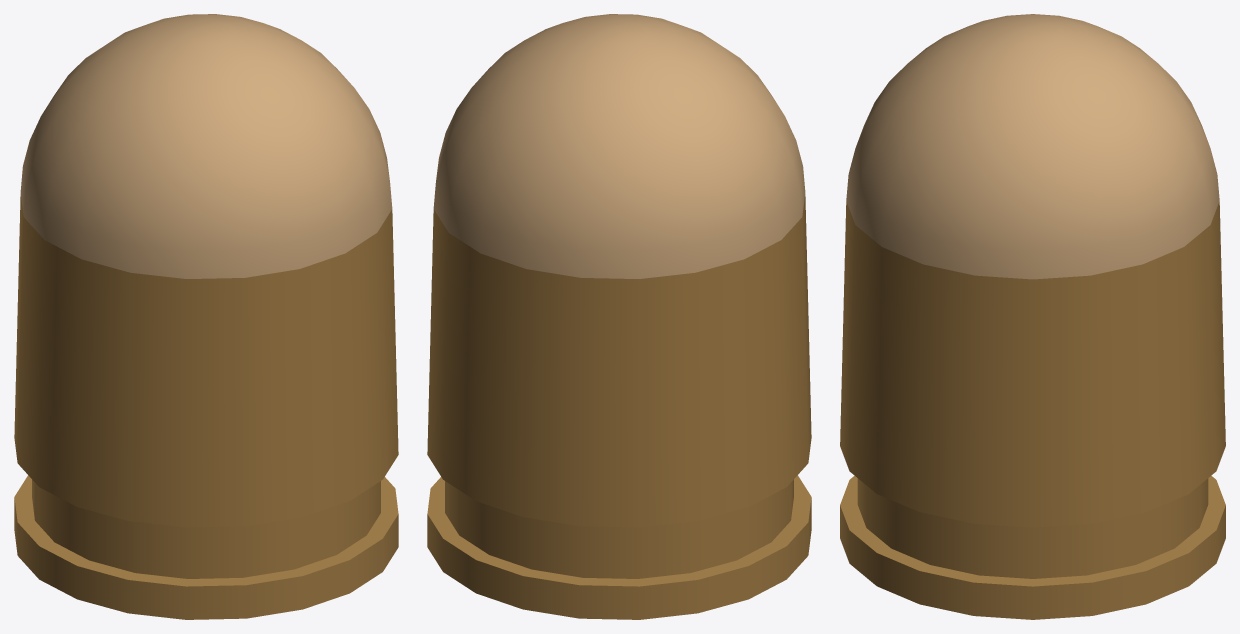
Rendered from bullet.fbx.
The picture shows the model from 3 angles, left to right: view 1: azimuth 30°, elevation 25°; view 2: azimuth 150°, elevation 25°; view 3: azimuth 270°, elevation 25°; orthographic projection.
Visible parts, largest first — view 1: pSphere2; view 2: pSphere2; view 3: pSphere2.
Boxes of the visible parts, bbox=[...] form: pSphere2: bbox=[14, 14, 398, 619]; pSphere2: bbox=[427, 14, 811, 619]; pSphere2: bbox=[840, 14, 1225, 619].
Size of the model in its own units: 6.2 by 8.99 by 6.2.
